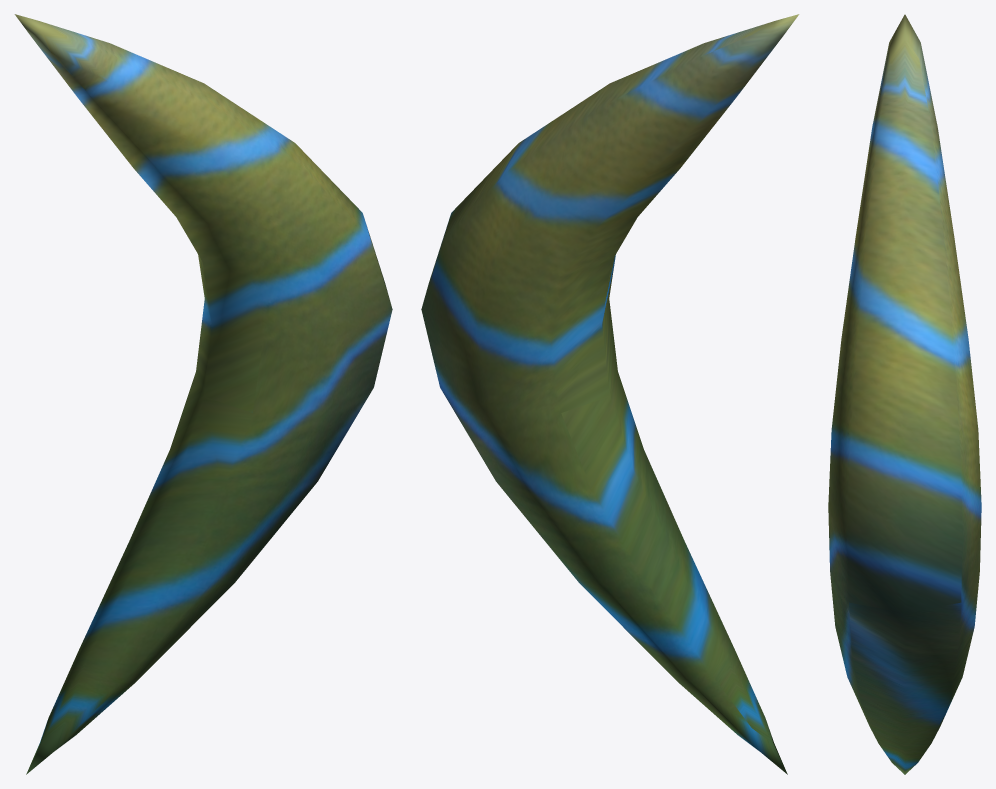
Rendered from Fish3_tail_new1.dae.
The picture shows the model from 3 angles, left to right: view 1: azimuth 30°, elevation 25°; view 2: azimuth 150°, elevation 25°; view 3: azimuth 270°, elevation 25°; orthographic projection.
Visible parts, largest first — view 1: Cube_004; view 2: Cube_004; view 3: Cube_004.
Part boxes in pixels (<box>): Cube_004: <box>14,14,392,774</box>; Cube_004: <box>421,14,799,774</box>; Cube_004: <box>828,14,981,774</box>.
Bounding box in the file's own units: 1.56 × 0.5637 × 3.06.
Materials: 1 (1 with a texture image).
